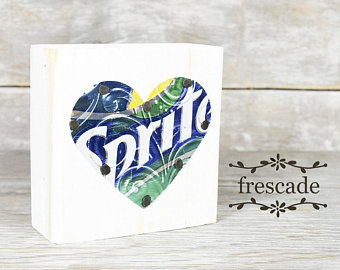sprite: (74, 86, 209, 198), (89, 86, 209, 198), (74, 86, 209, 185)
